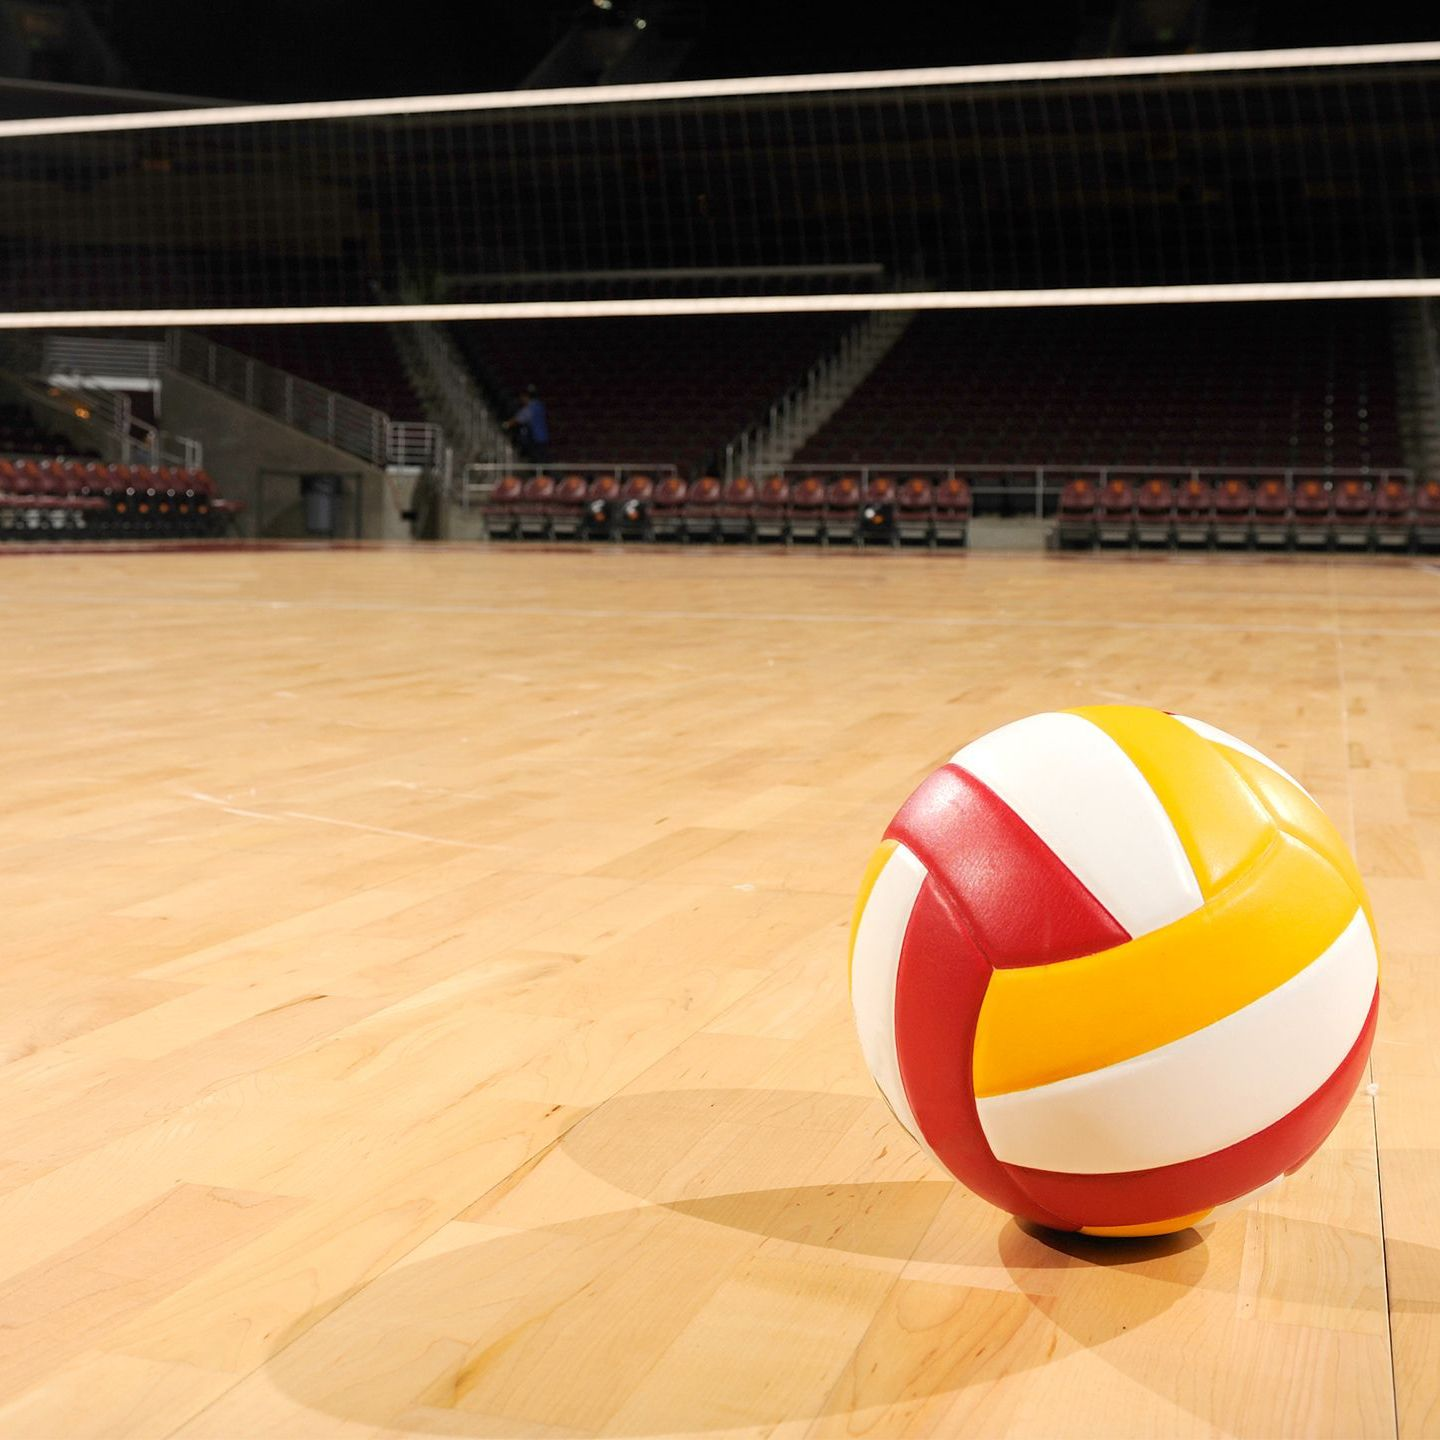ball: (847, 705, 1379, 1240)
